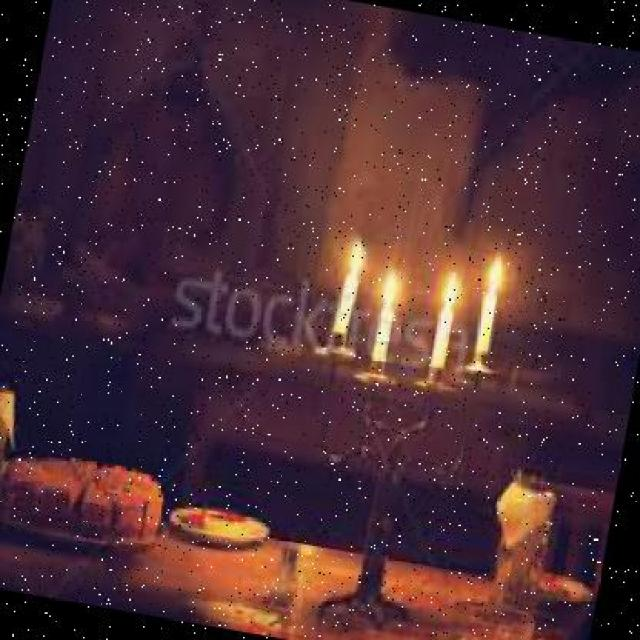fire: (340, 218, 375, 277), (477, 243, 511, 302), (372, 263, 402, 311), (436, 263, 462, 311)
